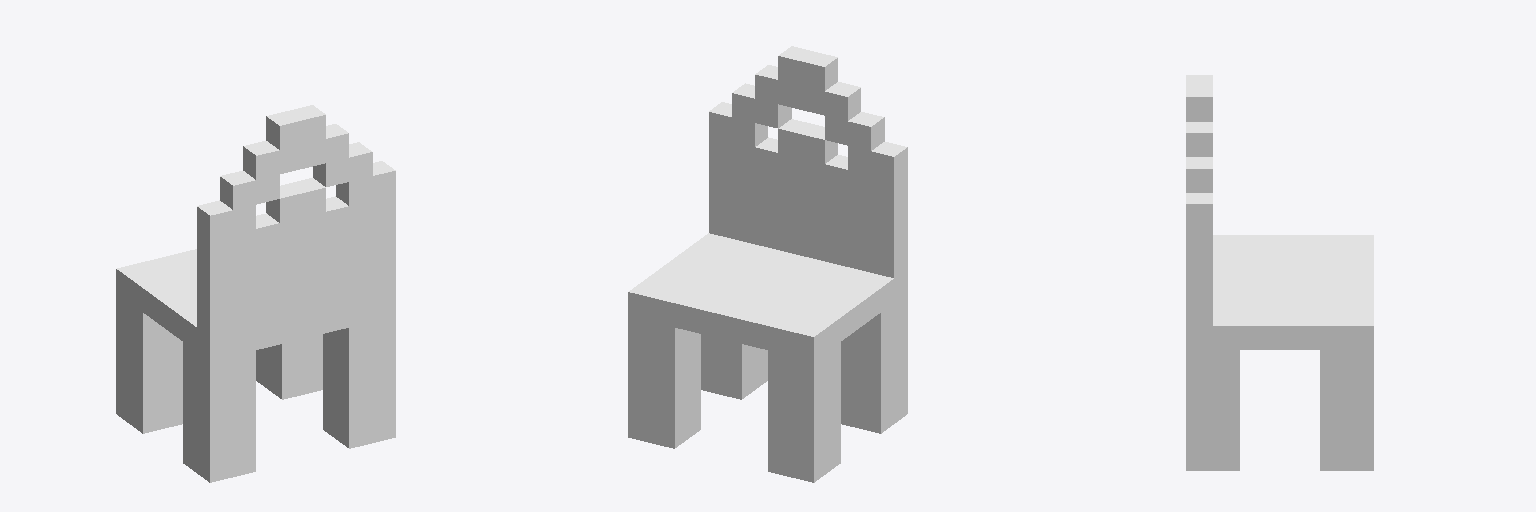
The model's file is chair.obj.
3 renders of one model, left to right at view 1: azimuth 30°, elevation 25°; view 2: azimuth 150°, elevation 25°; view 3: azimuth 270°, elevation 25°, orthographic.
Visible parts, largest first — view 1: object 1; view 2: object 1; view 3: object 1.
Part boxes in pixels (x1,y1,x2,y2): object 1: (116, 105, 395, 482); object 1: (628, 46, 907, 482); object 1: (1186, 75, 1373, 470).
Size of the model in its own units: 0.8 by 1.4 by 0.7.